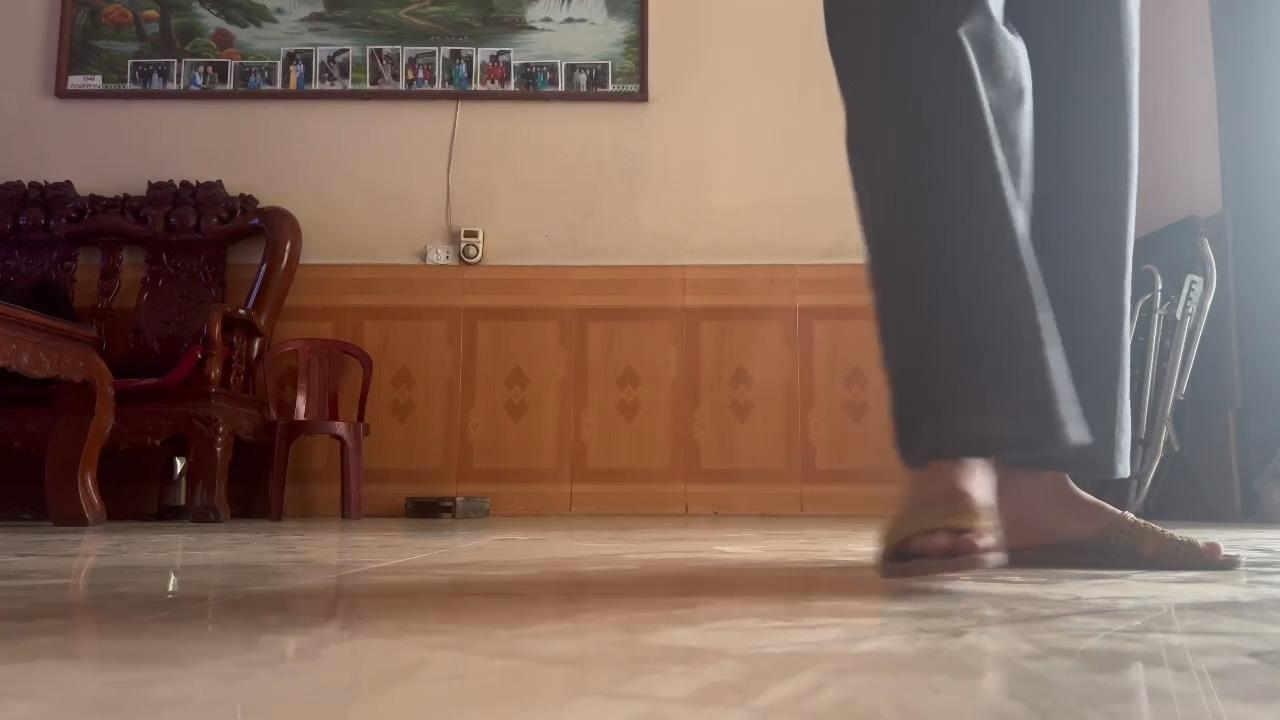no-boot: (1012, 472, 1241, 580), (872, 467, 1010, 588)
